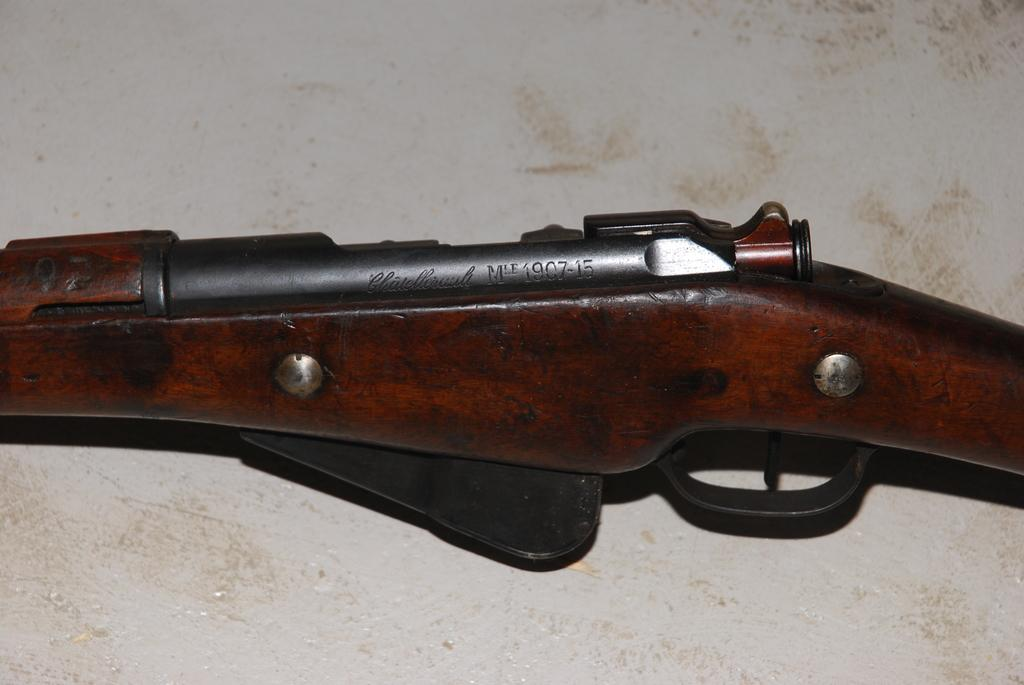Shotgun: (0, 200, 1023, 559)
